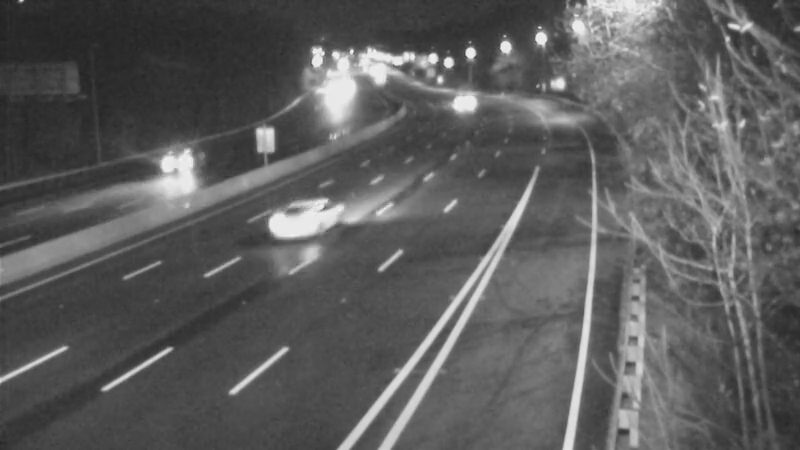vehicle: (253, 182, 333, 262), (124, 126, 204, 206), (440, 73, 490, 123)
